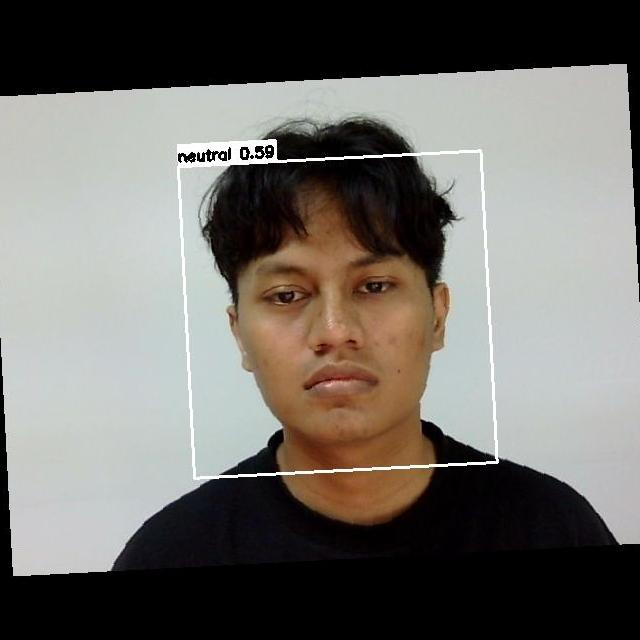Natural: (241, 245, 435, 406)
